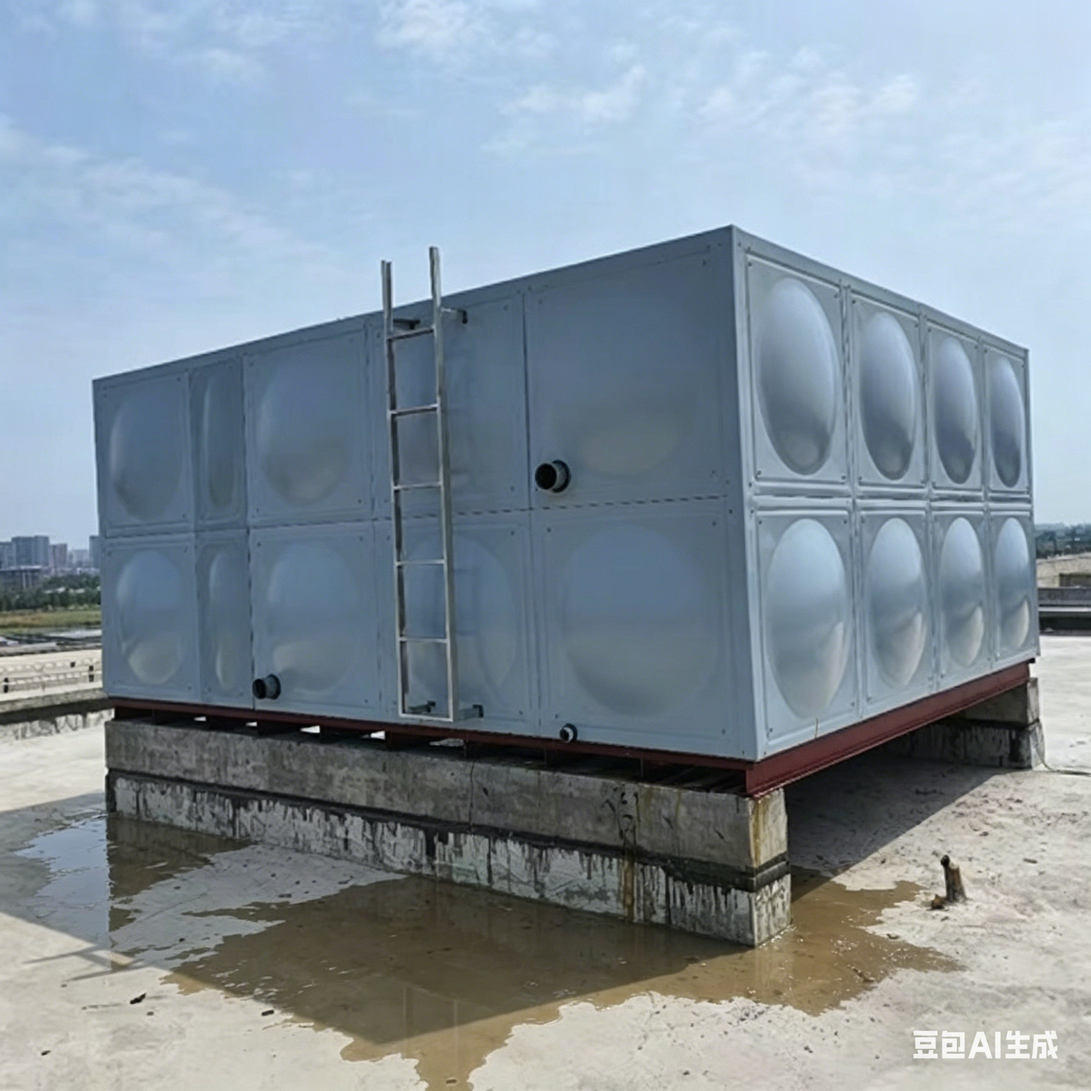Leakage: (303, 904, 939, 1003), (30, 812, 158, 945), (333, 1011, 495, 1071), (201, 913, 285, 1001), (335, 868, 477, 900)
